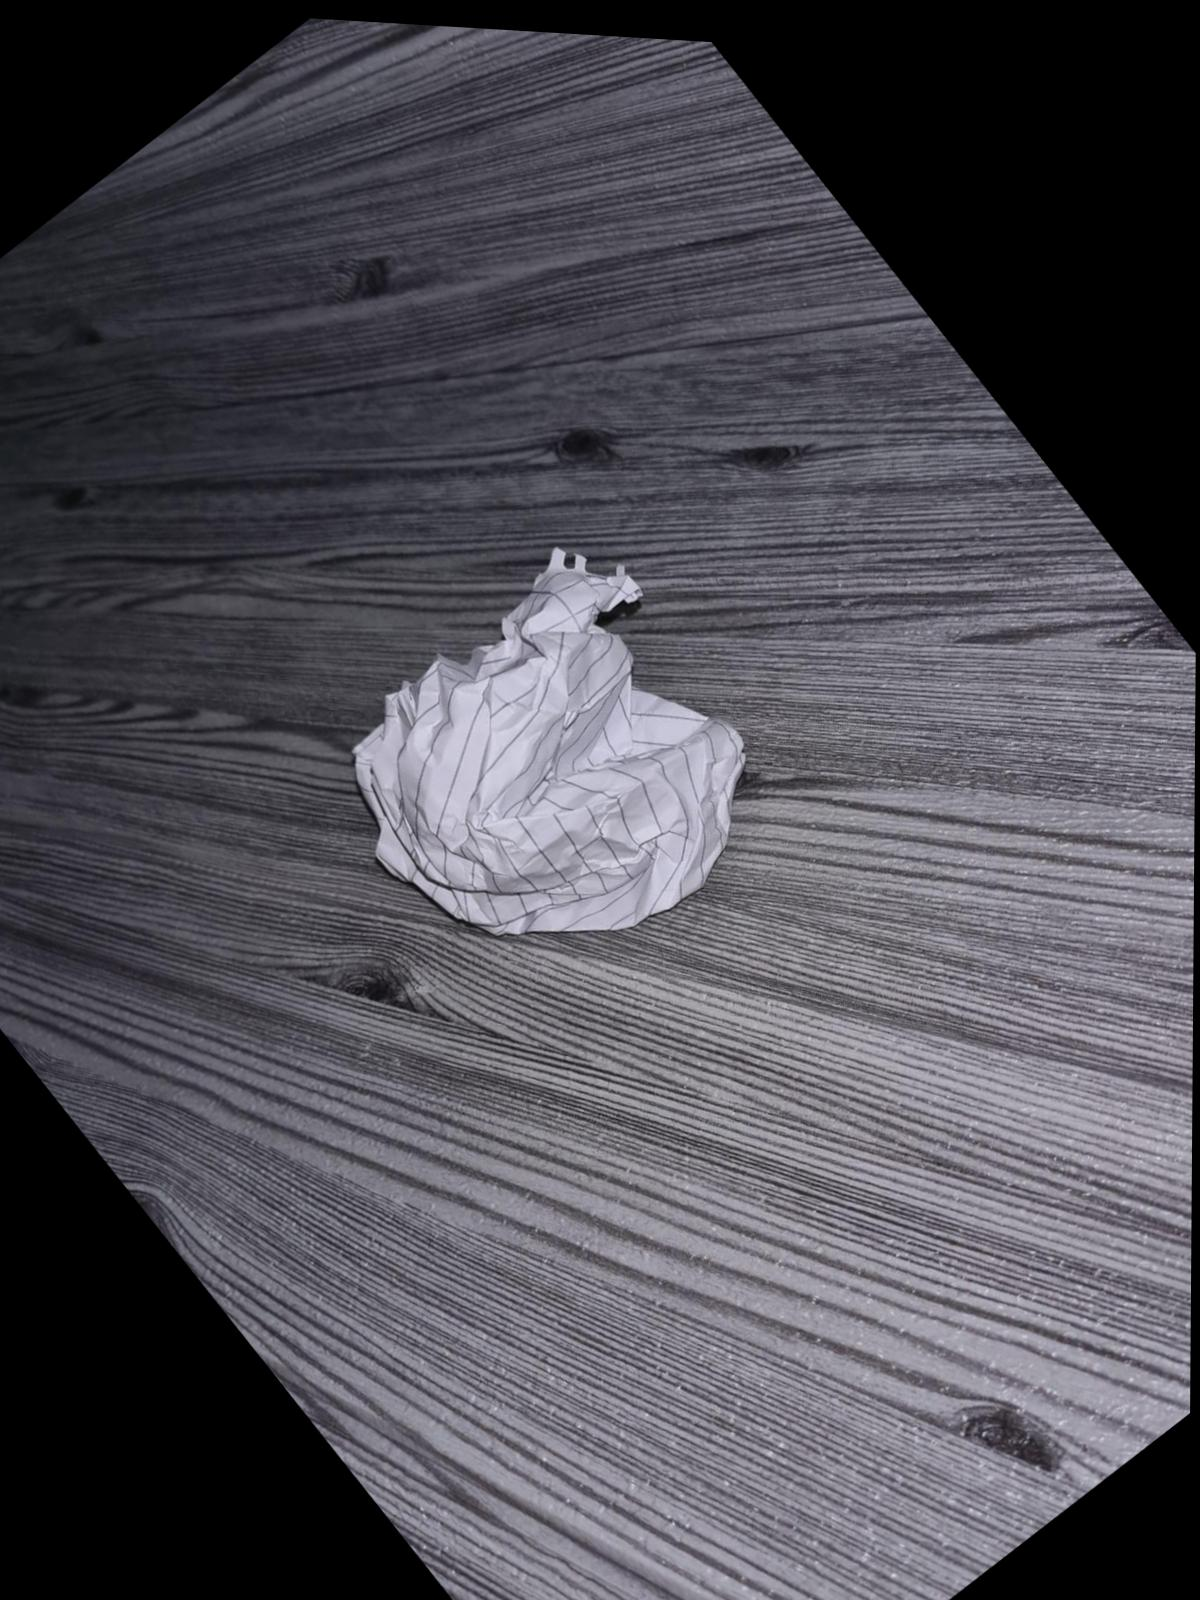paper: (354, 548, 742, 932)
